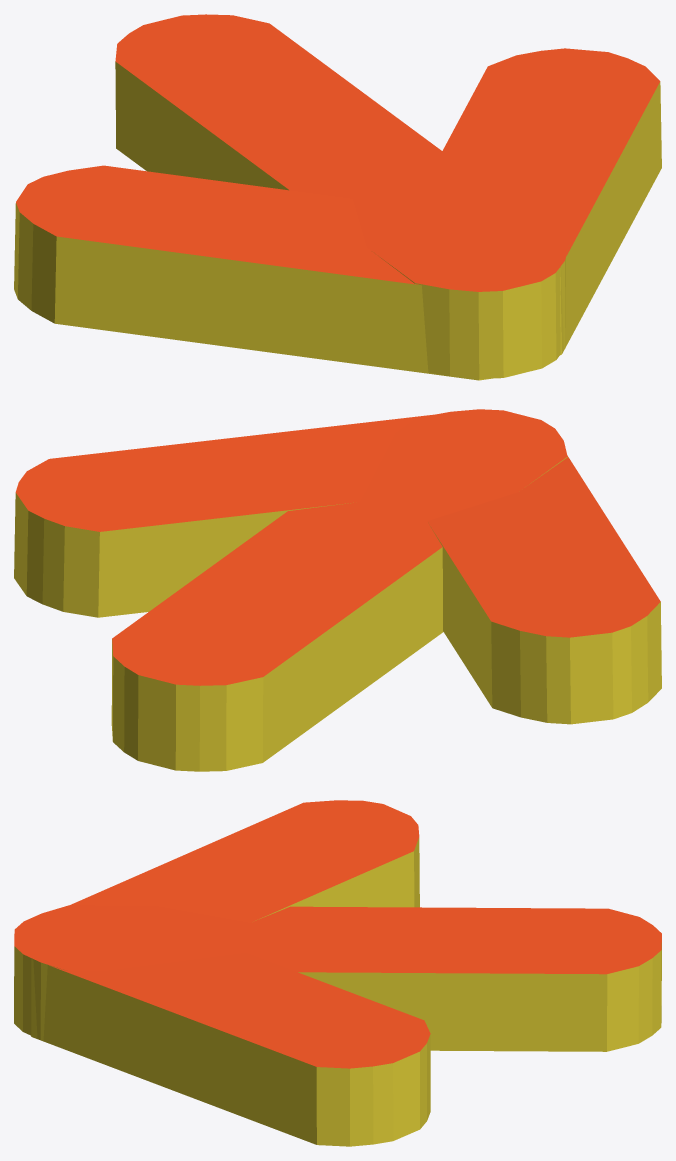
File: arrow.obj
The picture shows the model from 3 angles, top to bottom: view 1: azimuth 30°, elevation 25°; view 2: azimuth 150°, elevation 25°; view 3: azimuth 270°, elevation 25°; orthographic projection. The views are drawn at different scales.
Parts seen in each view (by area): view 1: group477237988; view 2: group477237988; view 3: group477237988.
Part boxes in pixels (x1=…): group477237988: x1=14, y1=14, x2=661, y2=380; group477237988: x1=14, y1=409, x2=661, y2=771; group477237988: x1=14, y1=800, x2=661, y2=1146.
Bounding box in the file's own units: 2.5 × 0.3716 × 2.54.
